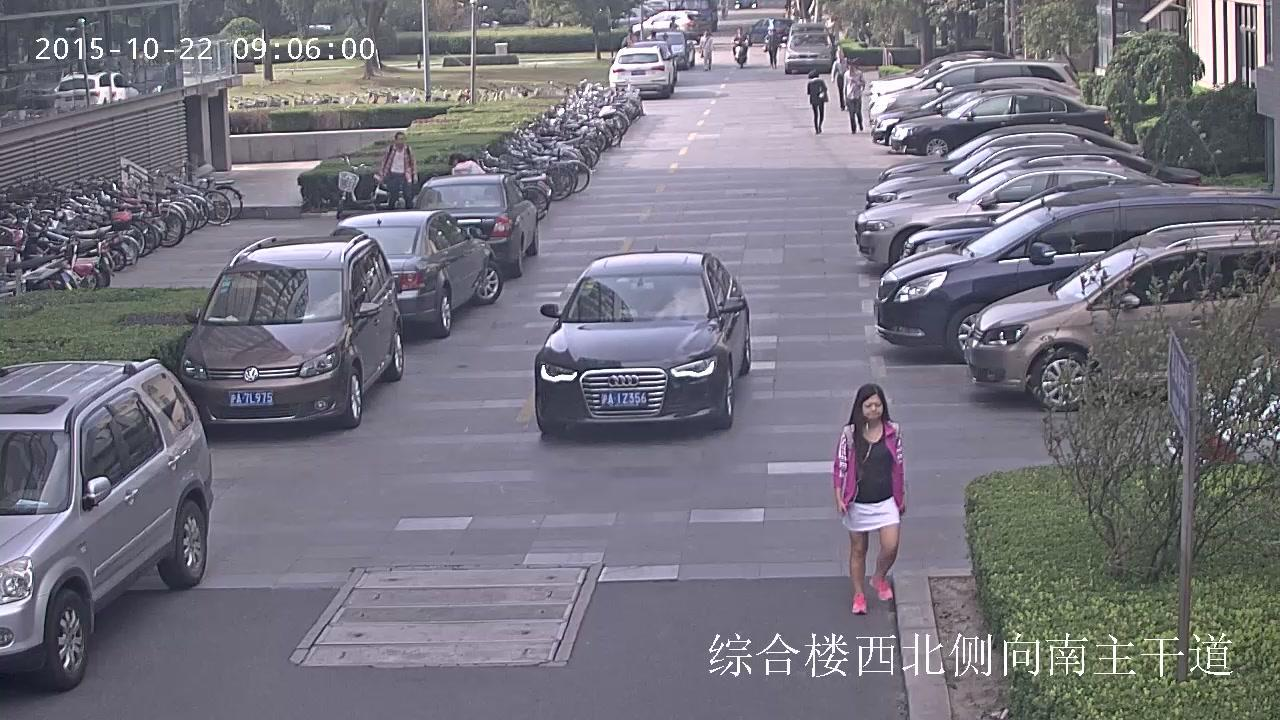person: (832, 381, 907, 614), (378, 131, 418, 211), (842, 58, 865, 133), (805, 70, 828, 133), (830, 48, 850, 110), (448, 152, 487, 177), (762, 25, 780, 70), (733, 25, 748, 68), (700, 30, 712, 70), (733, 25, 747, 48), (669, 16, 678, 35)
